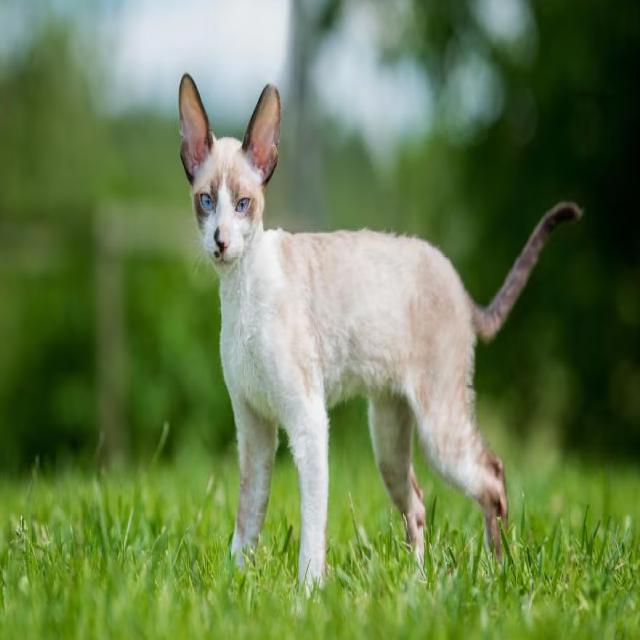Cornish Rex: (175, 65, 586, 612)
